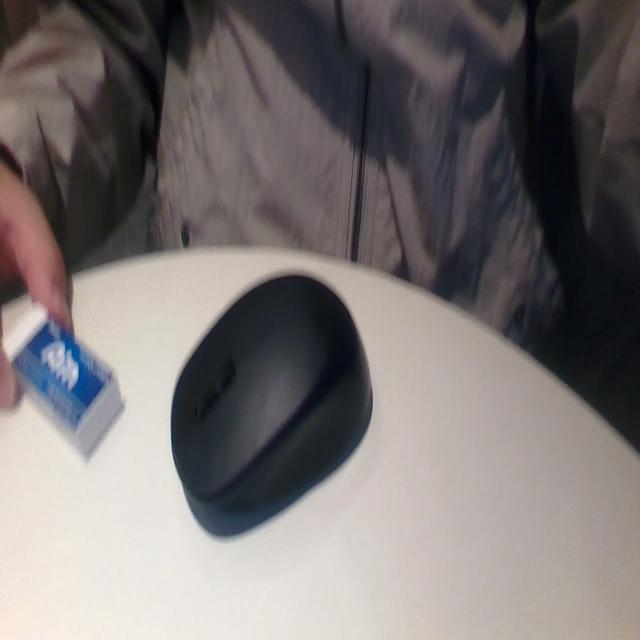eraser: (8, 296, 124, 440)
grab_eraser: (0, 170, 146, 464)
mouse: (158, 260, 382, 532)
